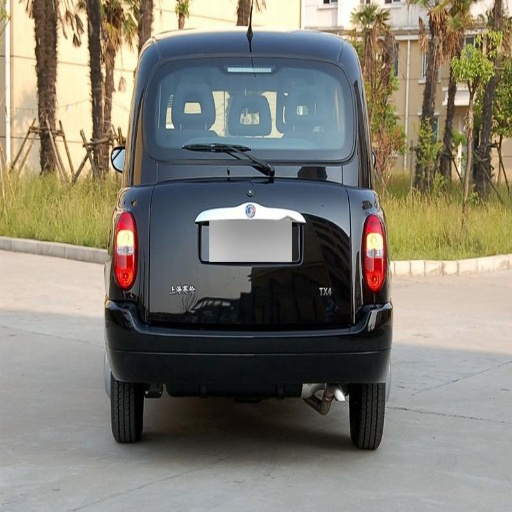back_bumper: (105, 301, 390, 393)
tailgate: (265, 298, 345, 325)
trunk: (129, 163, 373, 331), (234, 56, 300, 99)
